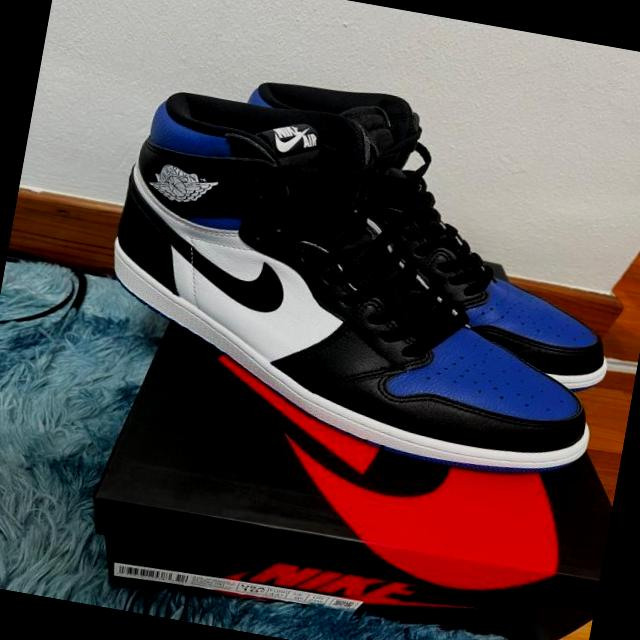nike_original_jordan: (81, 80, 640, 494), (209, 68, 640, 395)
